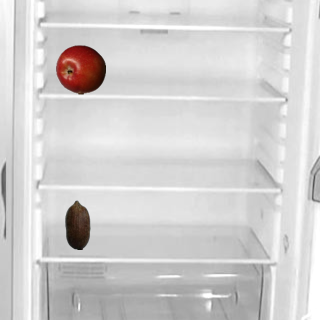Apple Braeburn: (55, 44, 105, 94)
Nut Pecan: (52, 199, 102, 249)
